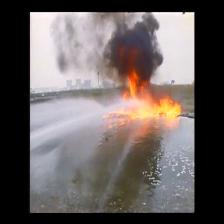fire: (103, 70, 183, 128)
smoke: (51, 14, 168, 79)
